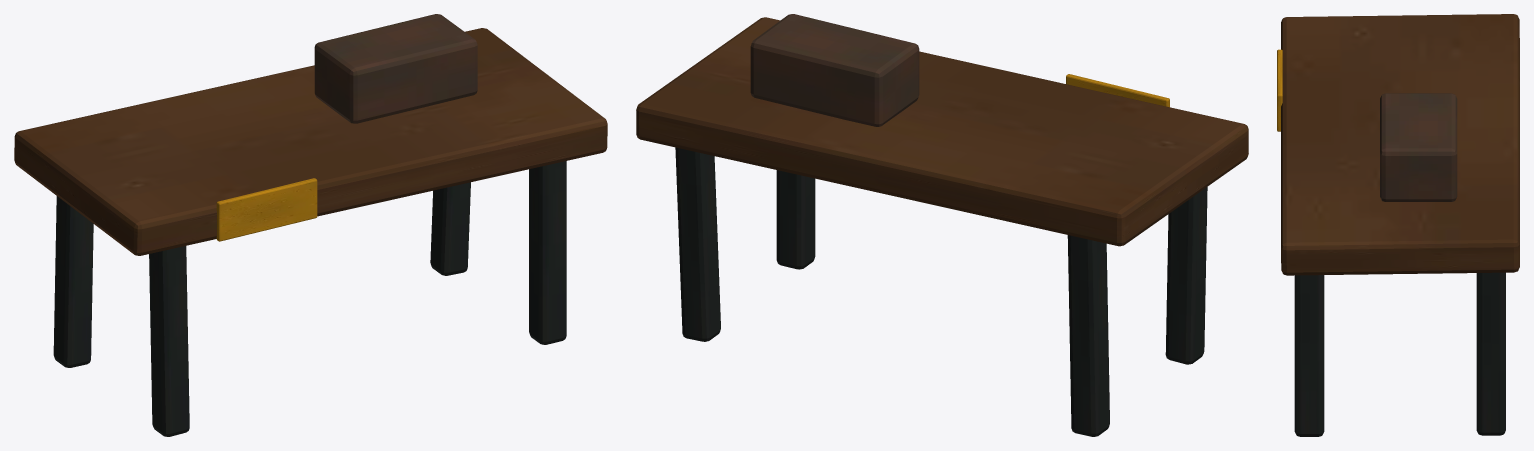
File: scavenger-table-v1.glb
The picture shows the model from 3 angles, left to right: view 1: azimuth 30°, elevation 25°; view 2: azimuth 150°, elevation 25°; view 3: azimuth 270°, elevation 25°; orthographic projection. The views are drawn at different scales.
Visible parts, largest first — view 1: table_top, table_toolbox, table_leg_0, table_leg_1, table_leg_2, table_hazard_panel, table_leg_3; view 2: table_top, table_toolbox, table_leg_2, table_leg_3, table_leg_0, table_leg_1, table_hazard_panel; view 3: table_top, table_toolbox, table_leg_1, table_leg_3, table_hazard_panel.
Part boxes in pixels (bbox=[...]): table_top: bbox=[14, 28, 607, 255]; table_toolbox: bbox=[314, 14, 477, 123]; table_leg_0: bbox=[149, 246, 189, 436]; table_leg_1: bbox=[529, 161, 566, 344]; table_leg_2: bbox=[53, 196, 93, 367]; table_hazard_panel: bbox=[216, 178, 317, 241]; table_leg_3: bbox=[430, 182, 470, 275]; table_top: bbox=[636, 17, 1248, 246]; table_toolbox: bbox=[750, 14, 919, 126]; table_leg_2: bbox=[1067, 235, 1109, 436]; table_leg_3: bbox=[675, 147, 720, 341]; table_leg_0: bbox=[1165, 187, 1207, 364]; table_leg_1: bbox=[776, 170, 815, 269]; table_hazard_panel: bbox=[1066, 74, 1169, 107]; table_top: bbox=[1281, 14, 1519, 275]; table_toolbox: bbox=[1380, 93, 1457, 201]; table_leg_1: bbox=[1294, 275, 1324, 436]; table_leg_3: bbox=[1476, 272, 1505, 435]; table_hazard_panel: bbox=[1277, 49, 1282, 131].
Bounding box in the file's own units: 2.3 × 1.3 × 1.07.
Materials: 4 (4 with a texture image).
